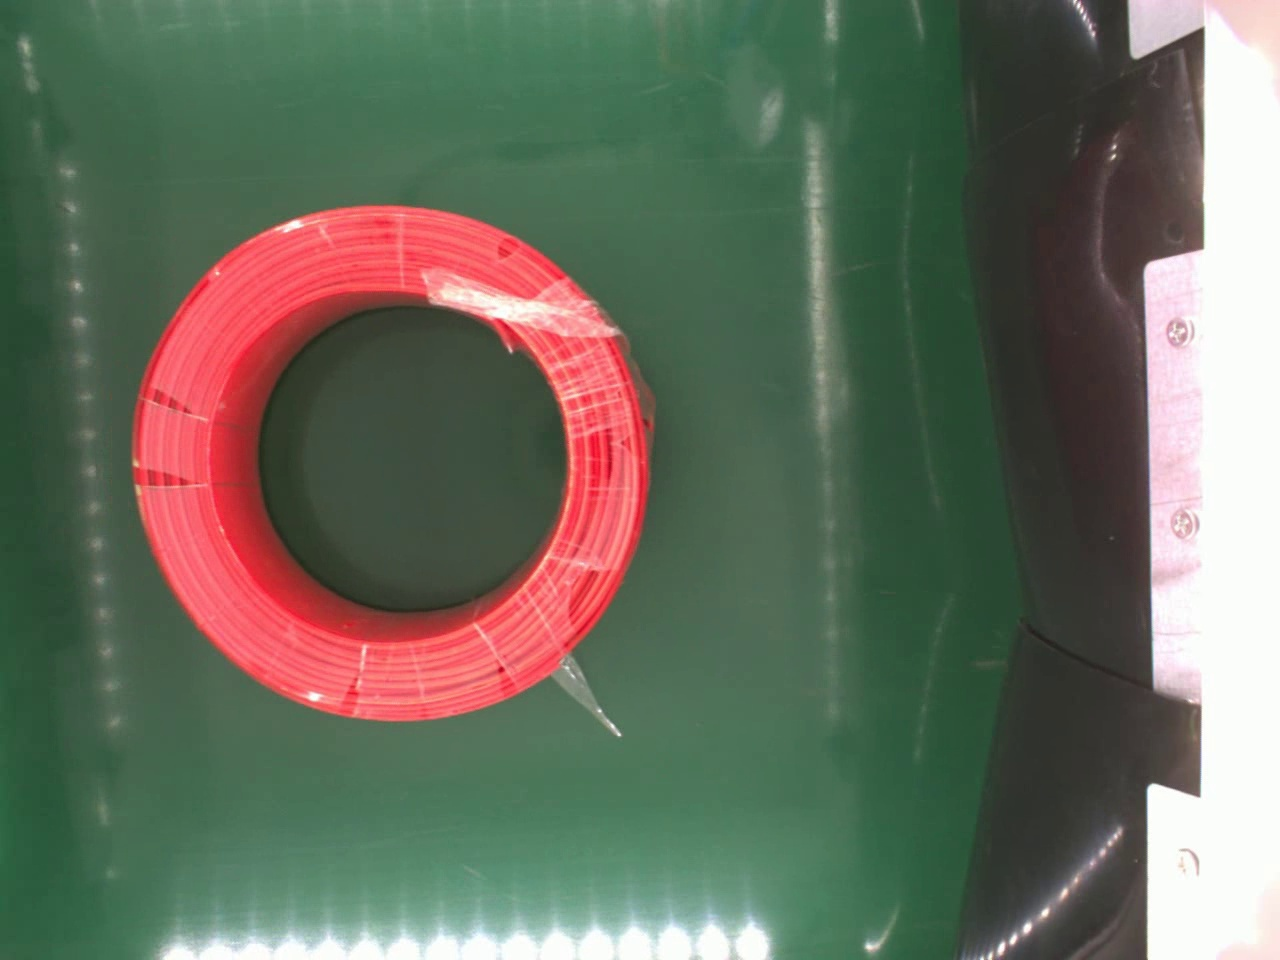red: (129, 199, 650, 717)
